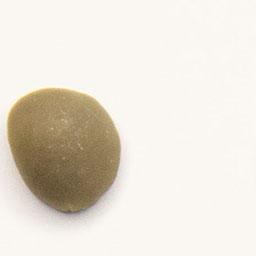premium: (6, 84, 126, 215)
